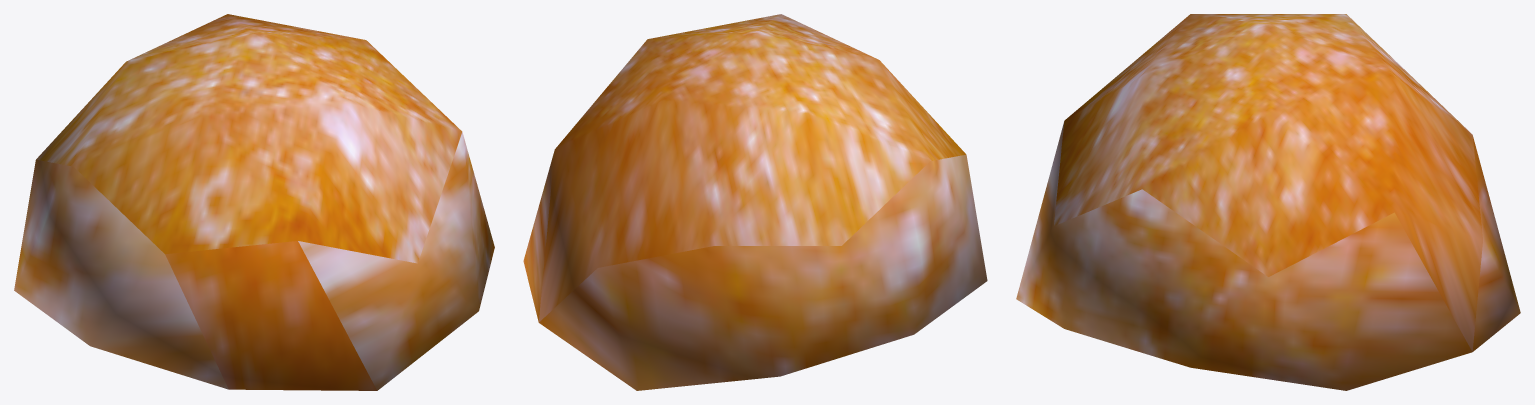
The model's file is CandyGumDropYellow.fbx.
3 views of the same model, side by side, from view 1: azimuth 30°, elevation 25°; view 2: azimuth 150°, elevation 25°; view 3: azimuth 270°, elevation 25° (orthographic). The views are drawn at different scales.
Visible parts, largest first — view 1: Icosphere.002; view 2: Icosphere.002; view 3: Icosphere.002.
Boxes of the visible parts, left/top/right/bottom form: Icosphere.002: left=14, top=14, right=494, bottom=390; Icosphere.002: left=523, top=14, right=987, bottom=390; Icosphere.002: left=1016, top=14, right=1520, bottom=390.
Bounding box in the file's own units: 190 × 131 × 200.
